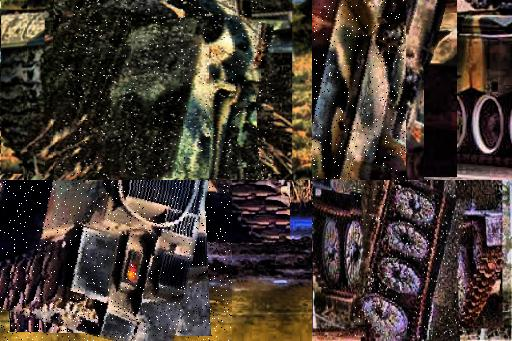tanks: (60, 1, 273, 180), (1, 181, 207, 341), (354, 181, 467, 341), (313, 1, 407, 181), (313, 1, 474, 41)
